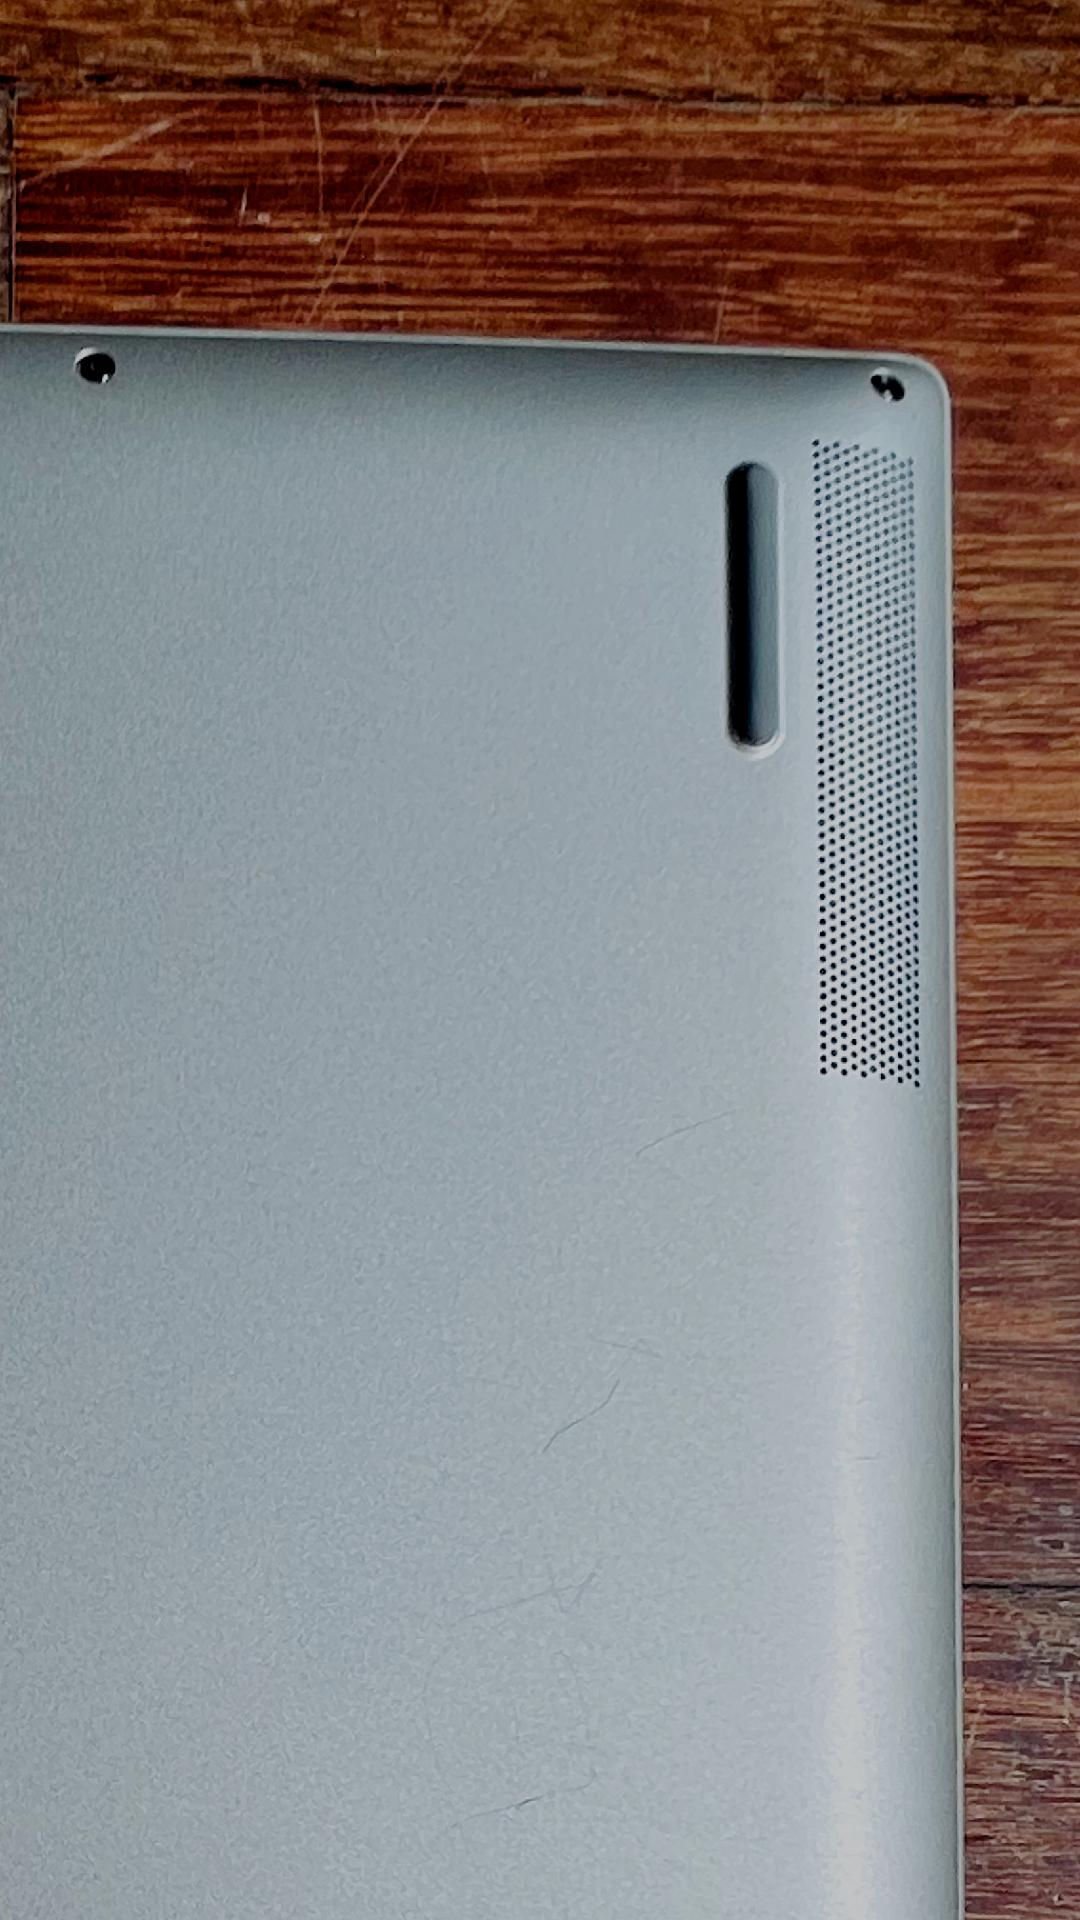scratches: (440, 1764, 599, 1833), (456, 1560, 600, 1623), (541, 1375, 628, 1457), (633, 1108, 737, 1162), (588, 1333, 669, 1365)
